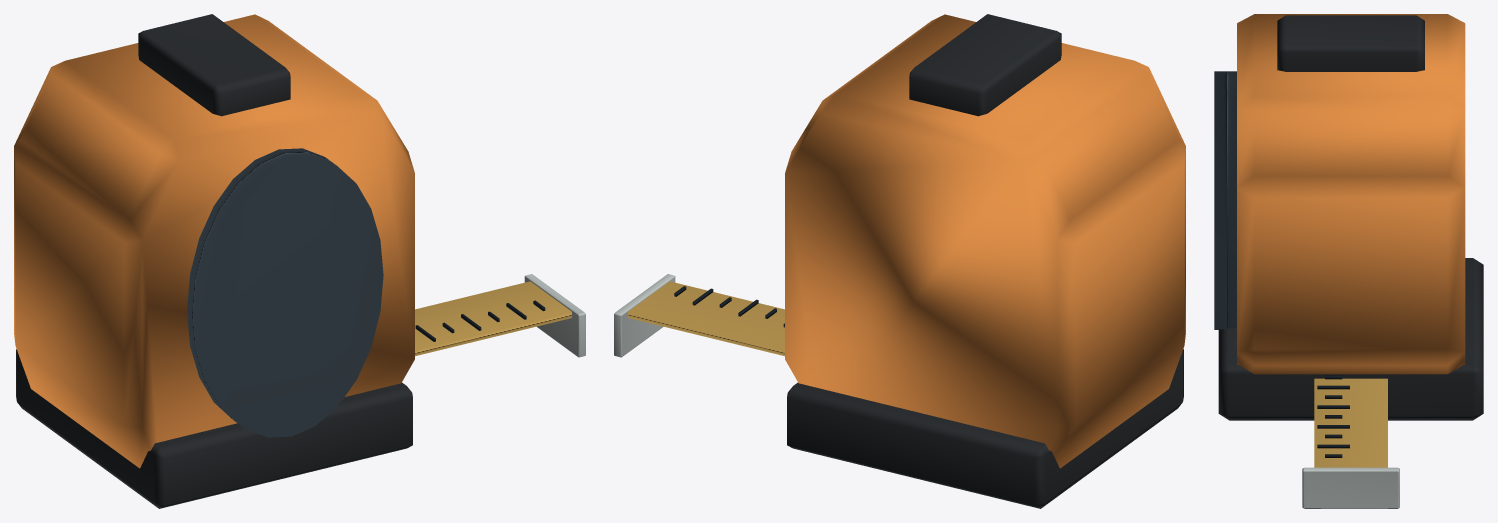
Rendered from P095_measuring_tape_rebuilt.glb.
3 views of the same model, side by side, from view 1: azimuth 30°, elevation 25°; view 2: azimuth 150°, elevation 25°; view 3: azimuth 270°, elevation 25° (orthographic). The views are drawn at different scales.
Parts seen in each view (by area): view 1: orange, shell, rubber, gold, silver; view 2: orange, rubber, gold, silver; view 3: orange, rubber, gold, shell, silver, dark.
Part boxes in pixels (x1,y1,x2,y2): orange: (14,14,414,468); shell: (187,148,383,437); rubber: (16,14,412,508); gold: (415,281,571,356); silver: (524,274,585,357); orange: (785,14,1185,468); rubber: (787,14,1183,508); gold: (628,281,784,356); silver: (614,274,675,357); orange: (1237,14,1465,374); rubber: (1218,15,1483,420); gold: (1314,378,1387,467); shell: (1214,71,1236,329); silver: (1302,467,1399,508); dark: (1317,375,1349,457).
Size of the model in its own units: 0.131 by 0.097 by 0.0704.
